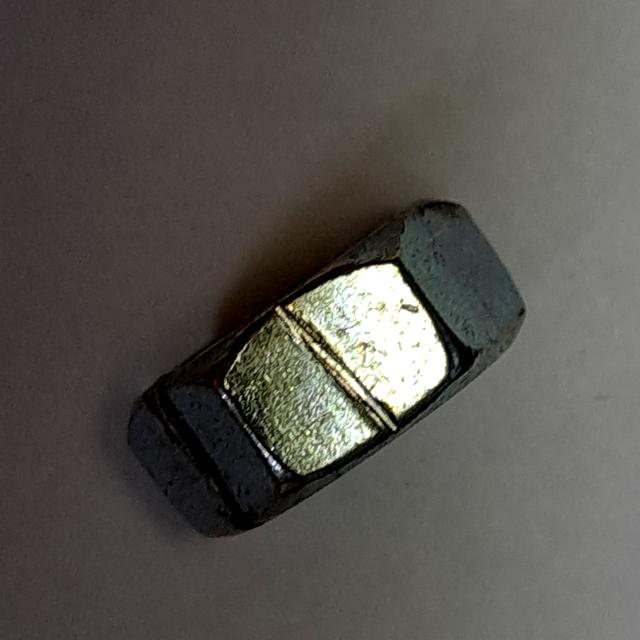Side_Scratches: (117, 186, 539, 555)
